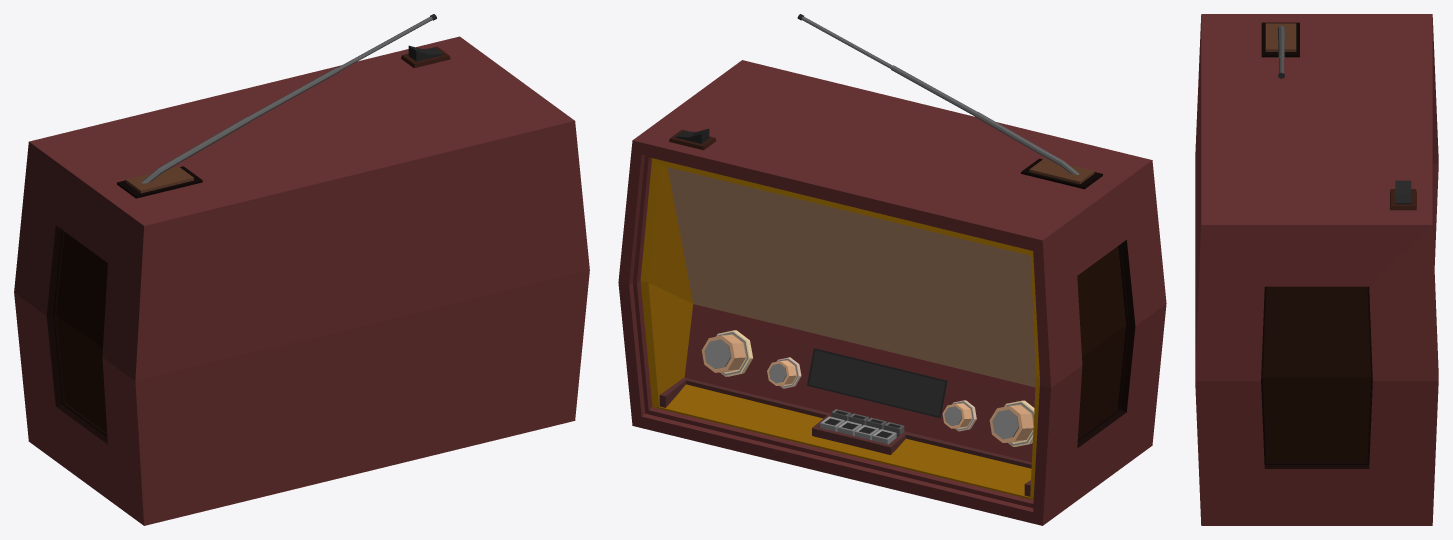
File: OLD-RADIO.fbx
The picture shows the model from 3 angles, left to right: view 1: azimuth 30°, elevation 25°; view 2: azimuth 150°, elevation 25°; view 3: azimuth 270°, elevation 25°; orthographic projection. The views are drawn at different scales.
Parts seen in each view (by area): view 1: Cube, Plane, Cube.010; view 2: Cube, Cube.001, Plane, Cube.006, Cube.010; view 3: Cube, Plane, Cube.010.
Boxes of the visible parts, <box> form: Cube: <box>14,36,589,525</box>; Plane: <box>117,14,436,198</box>; Cube.010: <box>401,45,450,68</box>; Cube: <box>618,60,1166,525</box>; Cube.001: <box>659,377,1031,496</box>; Plane: <box>797,14,1102,189</box>; Cube.006: <box>820,409,904,444</box>; Cube.010: <box>669,128,716,150</box>; Cube: <box>1195,14,1438,525</box>; Plane: <box>1261,22,1299,78</box>; Cube.010: <box>1390,180,1416,210</box>.
Bounding box in the file's own units: 119 × 101 × 55.22.
Materials: 1 (1 with a texture image).
